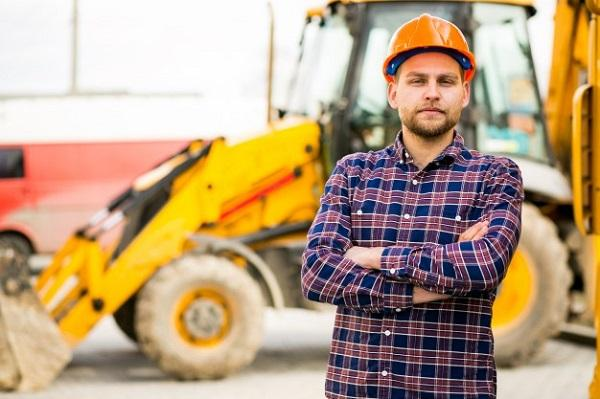helmet: (383, 15, 479, 85)
